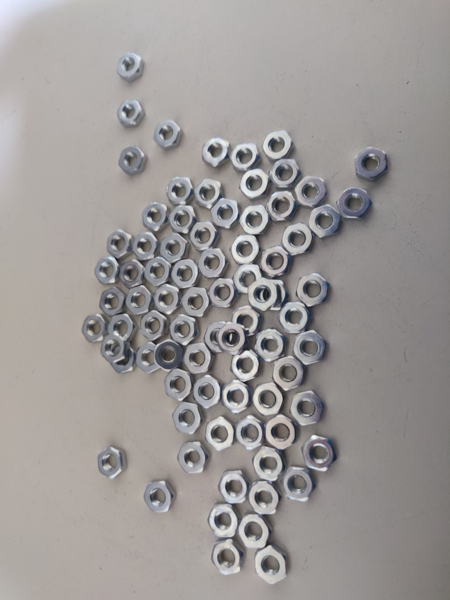nut: (254, 549, 291, 586), (302, 436, 339, 471), (210, 540, 245, 575), (292, 391, 327, 426), (273, 356, 307, 392), (336, 190, 374, 222), (355, 148, 390, 182), (254, 329, 288, 364), (239, 515, 273, 549), (297, 273, 331, 307), (295, 332, 329, 366), (253, 449, 286, 484), (178, 440, 210, 476), (295, 176, 330, 208), (208, 503, 239, 539), (309, 206, 343, 238), (272, 157, 304, 191), (284, 468, 315, 503), (222, 381, 253, 416), (278, 302, 313, 333), (145, 479, 175, 515), (249, 277, 278, 314), (247, 483, 280, 515), (253, 383, 285, 416), (266, 418, 299, 450), (263, 130, 297, 161), (205, 417, 236, 451), (219, 468, 247, 505), (284, 223, 315, 256), (236, 416, 265, 451), (118, 146, 149, 178), (172, 403, 204, 434), (185, 343, 216, 375), (239, 202, 271, 233), (195, 177, 226, 209), (193, 376, 223, 409), (167, 174, 197, 207), (99, 445, 128, 479), (204, 322, 232, 357), (115, 52, 146, 83), (165, 370, 195, 402), (235, 264, 267, 294), (233, 234, 262, 267), (260, 278, 288, 312), (116, 99, 146, 130), (181, 288, 212, 318), (231, 351, 260, 383), (199, 248, 231, 277), (231, 305, 259, 338), (267, 192, 297, 222), (240, 170, 270, 200), (153, 120, 182, 151), (212, 198, 241, 229), (190, 222, 219, 253), (160, 233, 189, 263), (202, 137, 230, 168), (208, 279, 239, 307), (106, 228, 134, 259), (144, 257, 173, 286), (143, 203, 169, 235), (170, 317, 198, 346), (263, 248, 291, 277), (130, 233, 160, 260), (232, 141, 258, 172), (136, 342, 162, 373), (155, 286, 180, 318), (169, 205, 197, 233), (82, 314, 108, 344), (127, 287, 153, 317), (172, 261, 200, 288), (155, 343, 182, 371), (110, 346, 138, 373), (141, 313, 167, 342), (99, 289, 125, 317), (101, 335, 127, 363), (218, 327, 243, 355), (108, 315, 135, 340), (95, 258, 119, 284), (119, 262, 144, 286)
